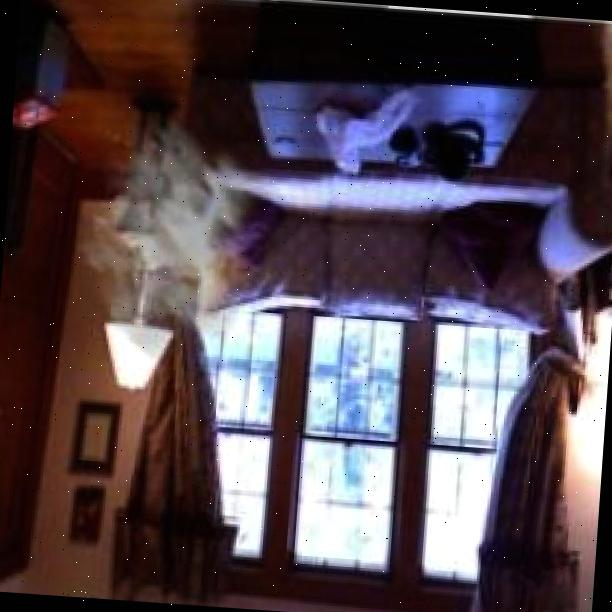smoke: (66, 102, 298, 379)
